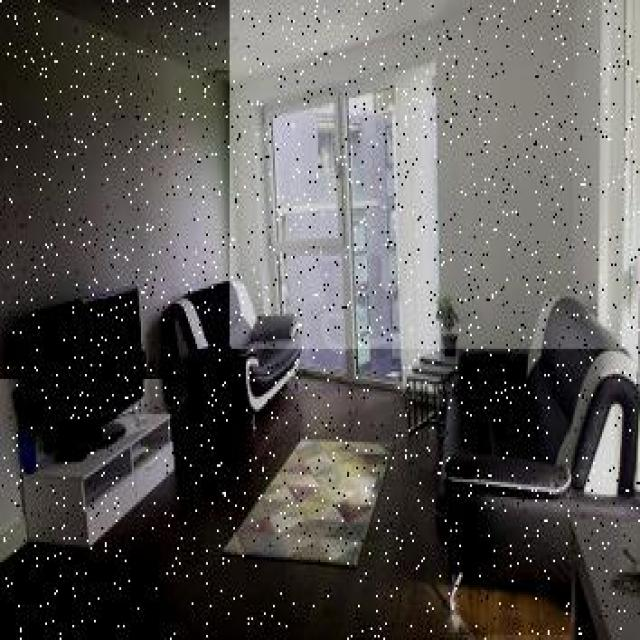Wall: (231, 0, 624, 349), (0, 1, 239, 560), (0, 379, 457, 637), (48, 1, 466, 83), (459, 584, 569, 635)
